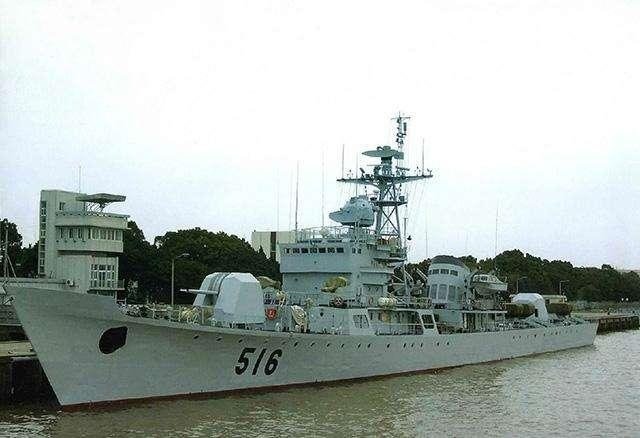warship: (3, 113, 595, 407)
